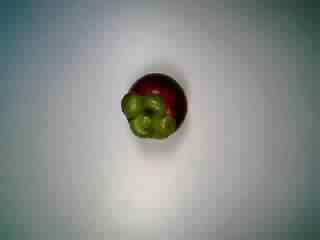mangosteen: (114, 70, 192, 146)
